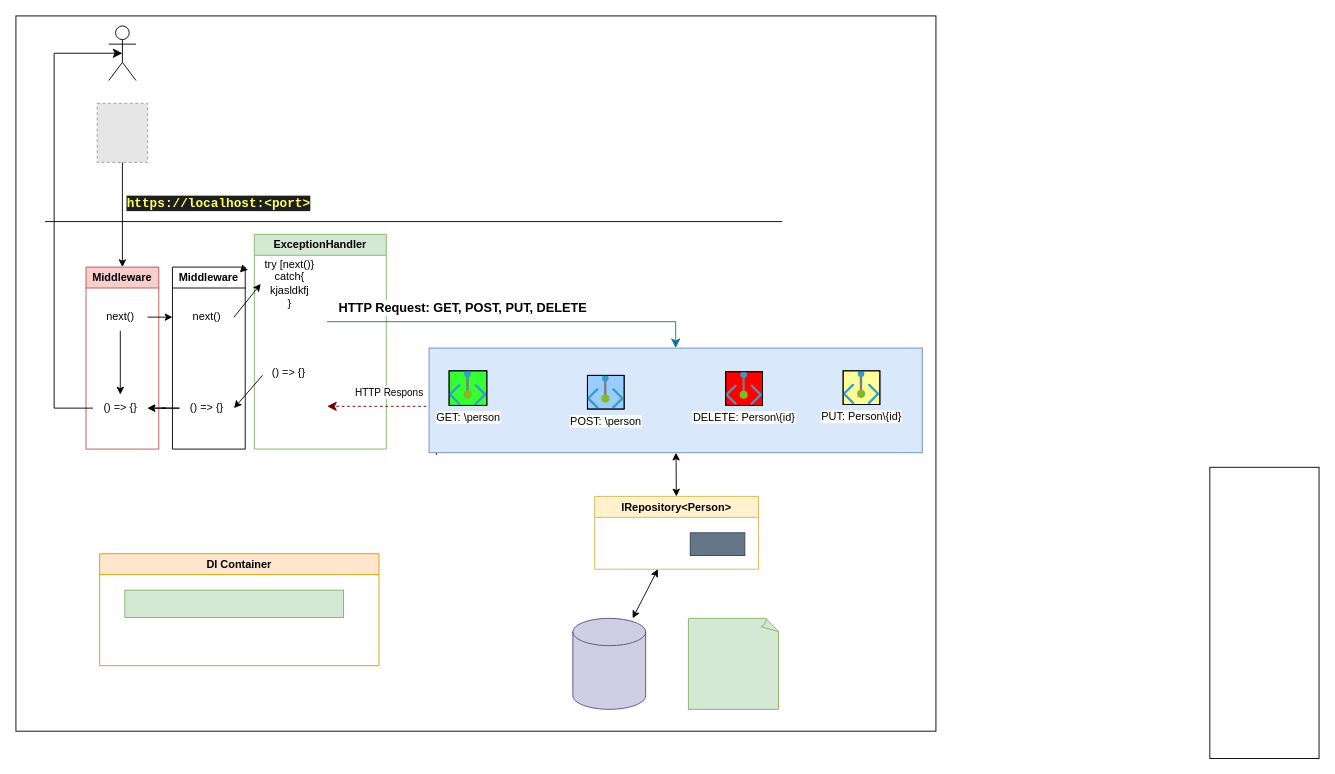
The diagram is 1335 pixels wide and 774 high, and some of its shapes have lost their labels. Grey dashed boxes stand in for pictures. Here are the shapes that lost their labels. From the top down, the centre of each, then its label:
(122,53): Client
(717,544): person
(234,603): AddSingleton<IPersonRepository, PersonMySqlDatabase>()
(609,663): Database
(733,663): InMemory DB
